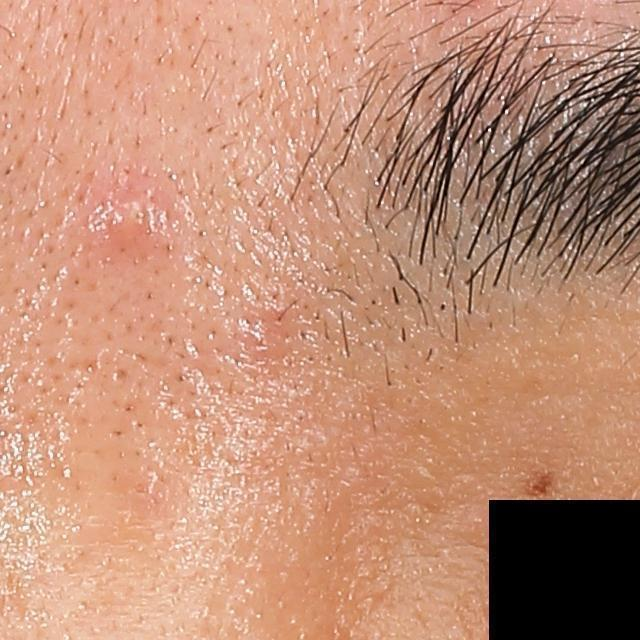nevus: (520, 465, 565, 501)
